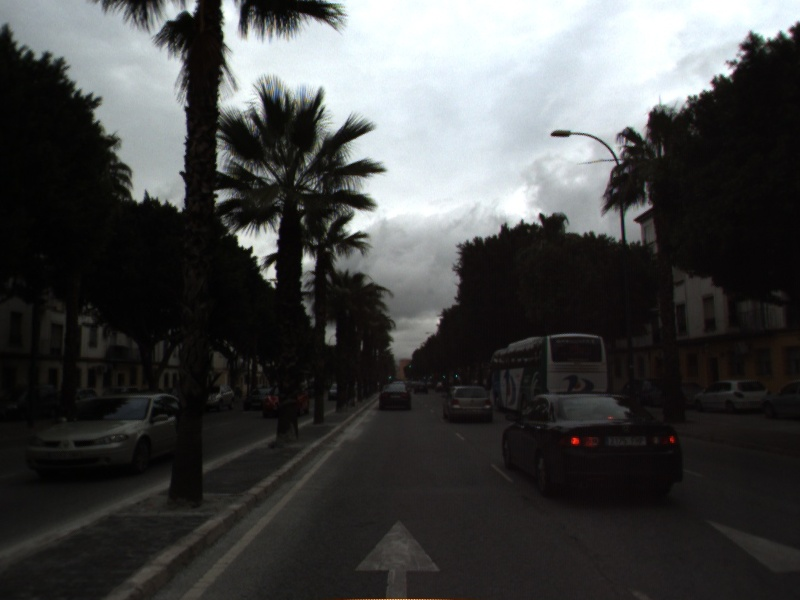STRAIGHT: (351, 516, 444, 600)
